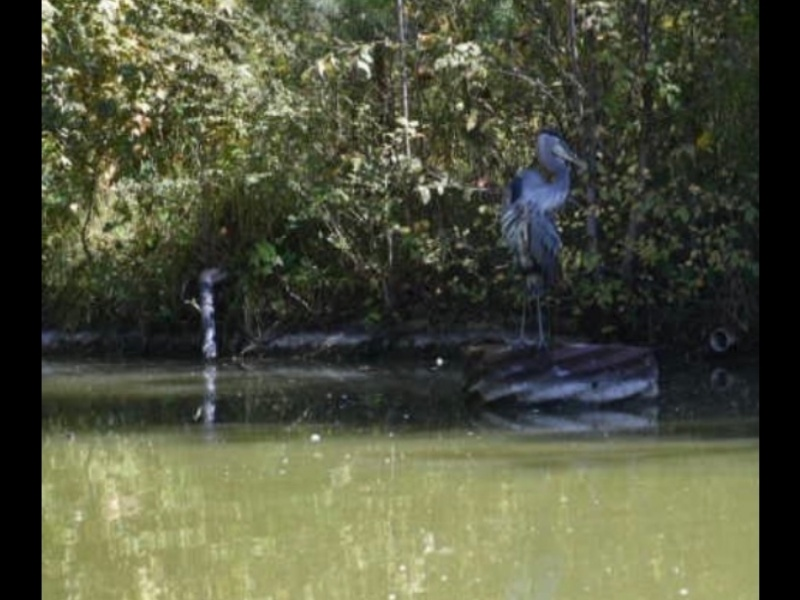heron: (499, 134, 586, 348)
